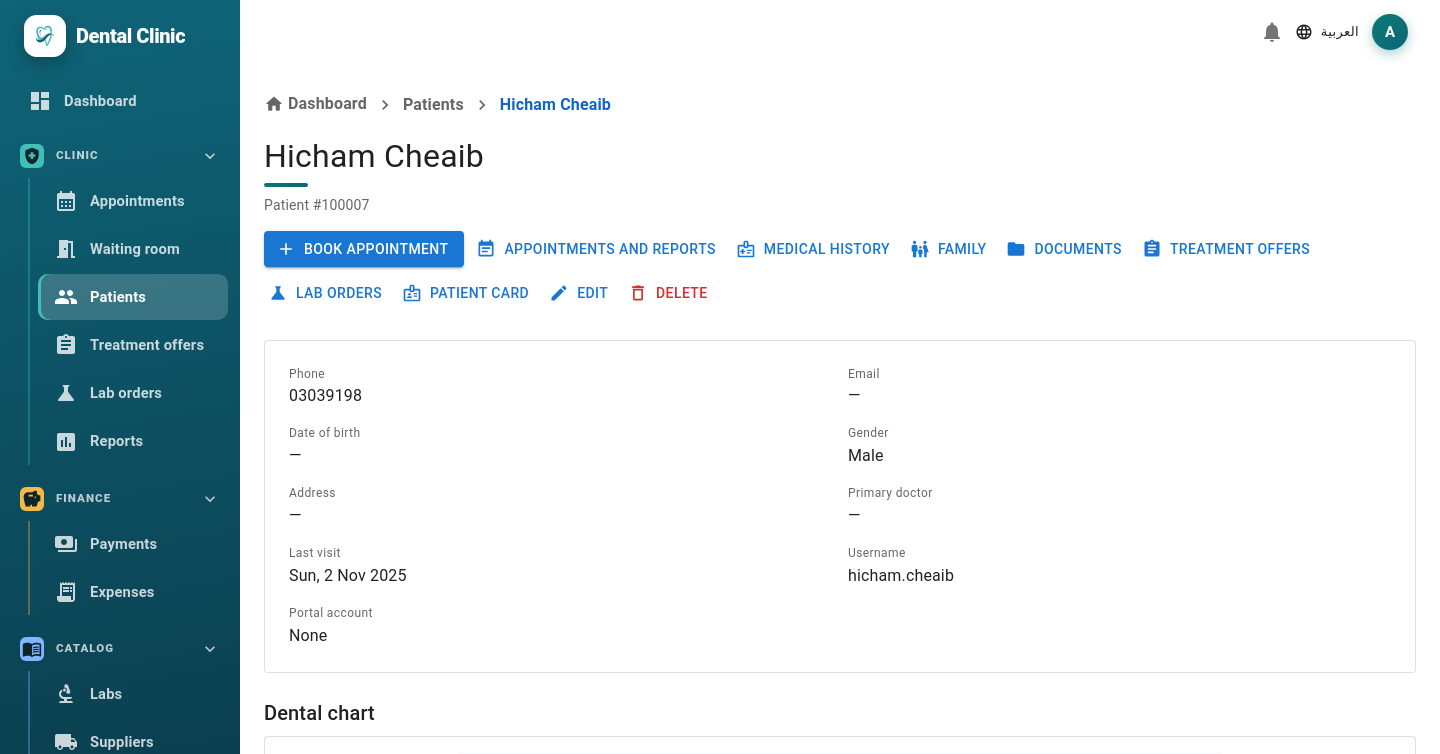
Scenario: the patient page › has a Family button for clinic staff, which opens the family page
Click the link "Family" at (948, 249), box [910,239,986,259]
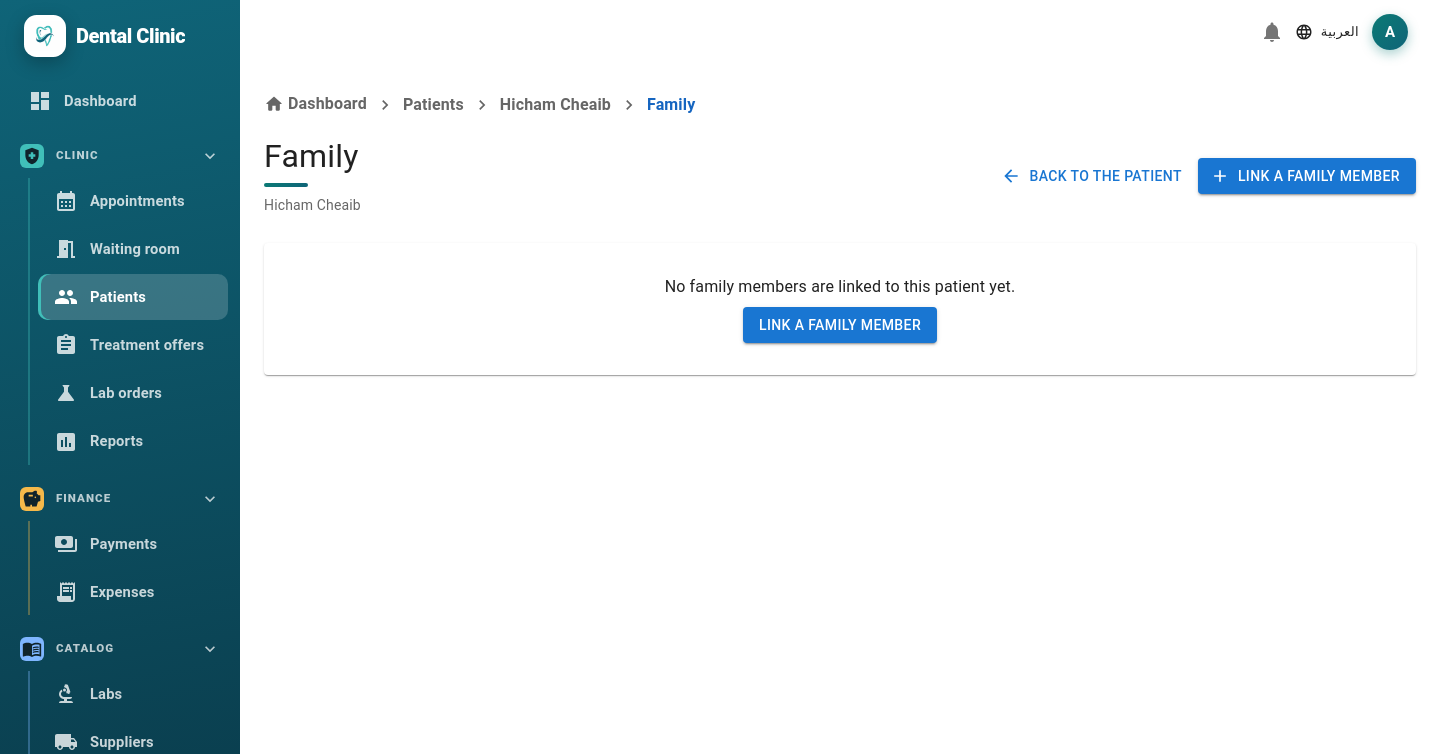
Result: the heading "Family" is shown at [264,137,359,175]
